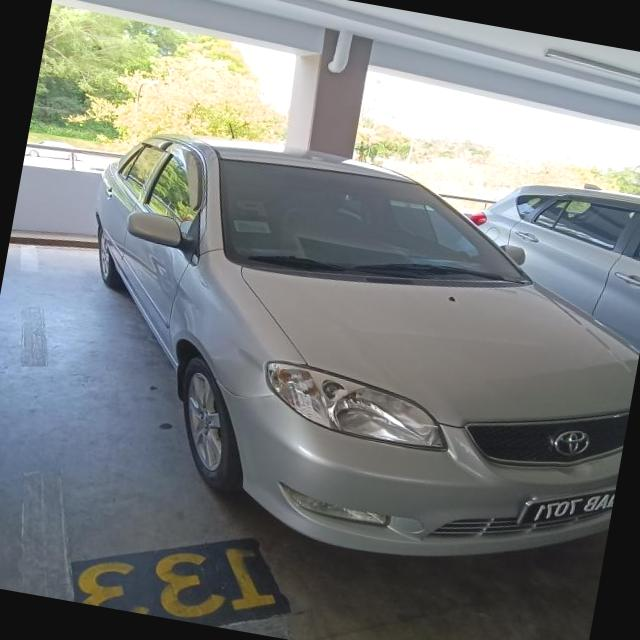ToyotaVios: (42, 110, 640, 592)
